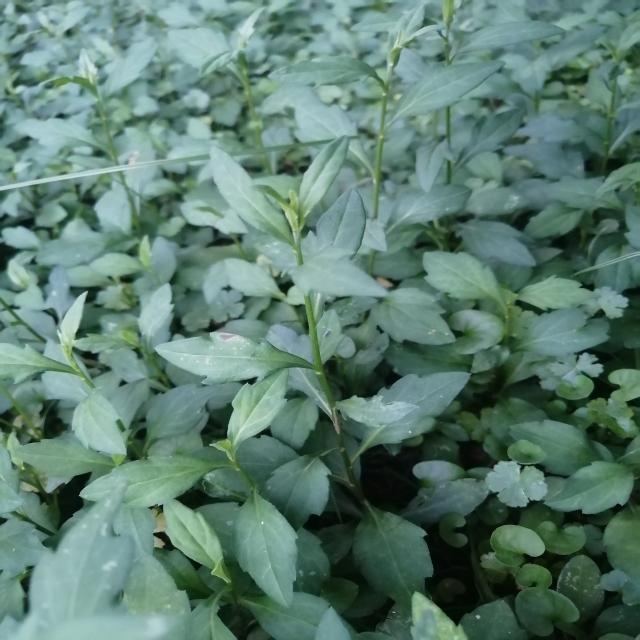Indian aster: (220, 145, 502, 551), (106, 380, 343, 596)
